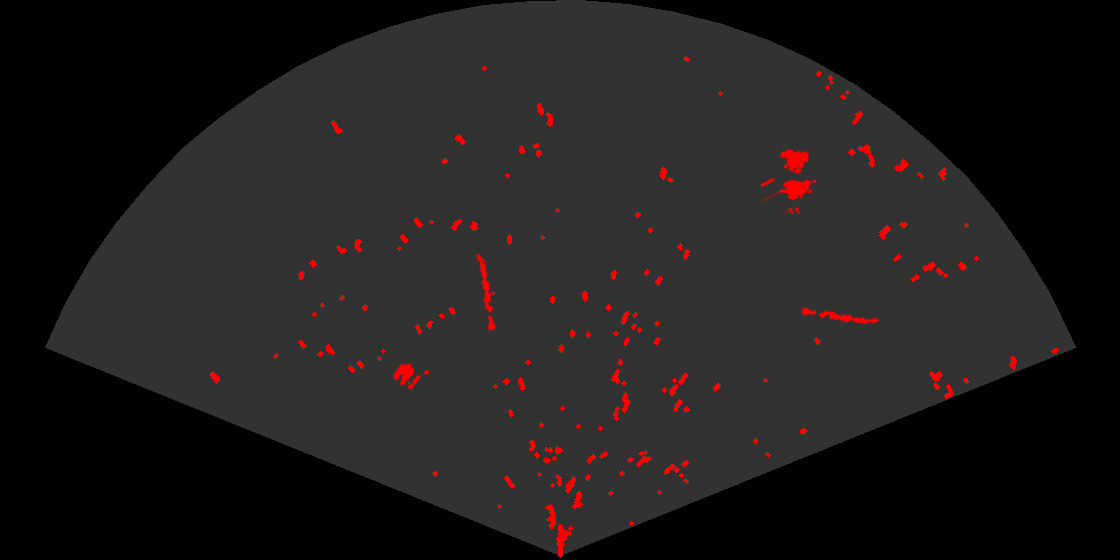ball: (392, 362, 422, 391)
cage: (761, 148, 818, 214)
chain: (475, 252, 498, 331), (797, 306, 880, 326)
